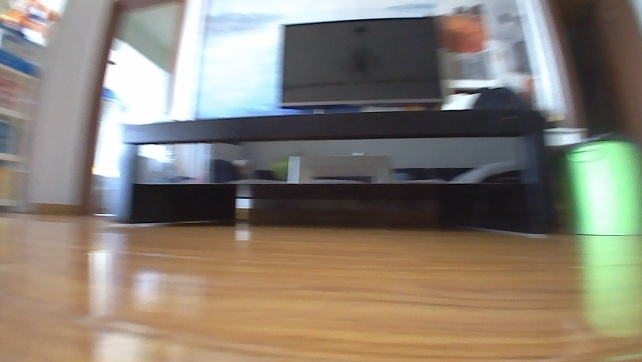TV_stand: (112, 105, 556, 235)
